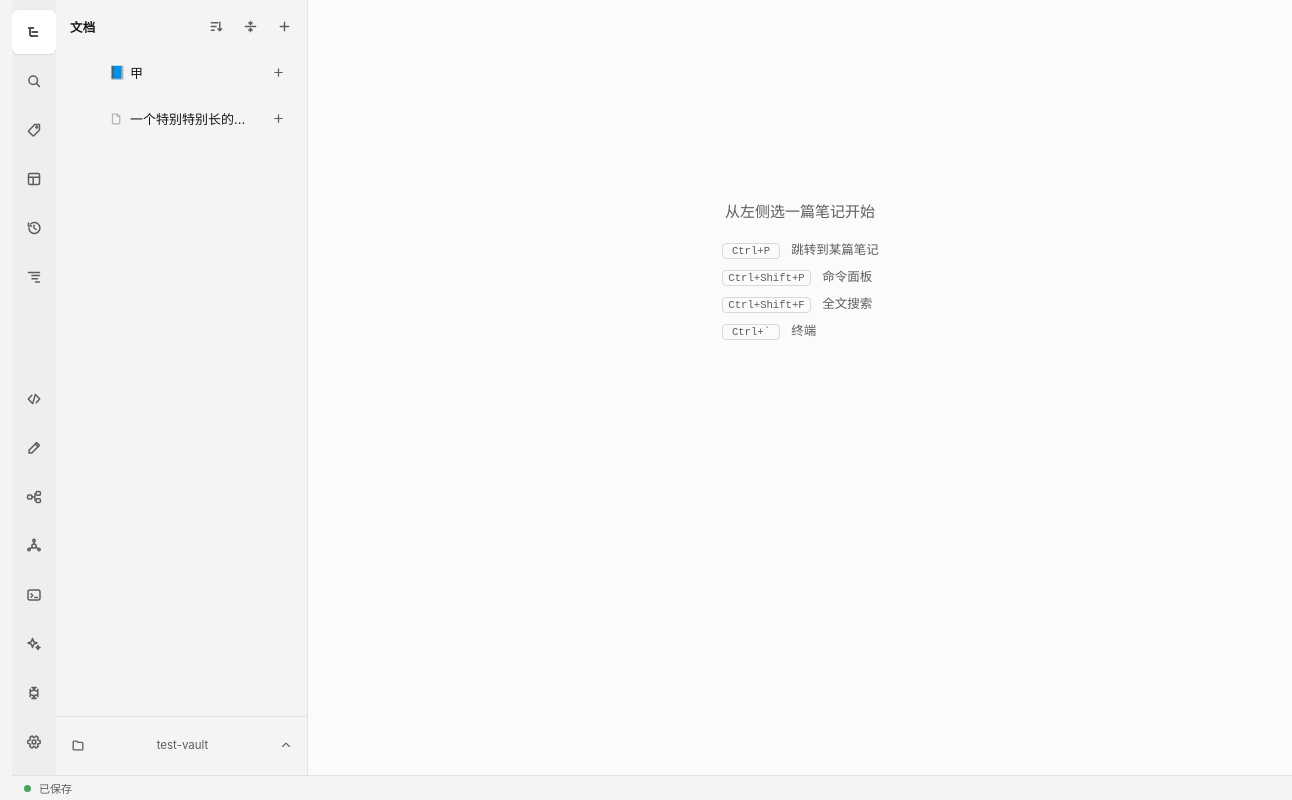
Test case: 文档图标 › 标签栏上也带图标 —— 标签等宽，名字先被截断
Step 1. Click the button with class "tree-label" showing "📘 甲" → (182, 72), box top-left (106, 50), bottom-right (259, 94)
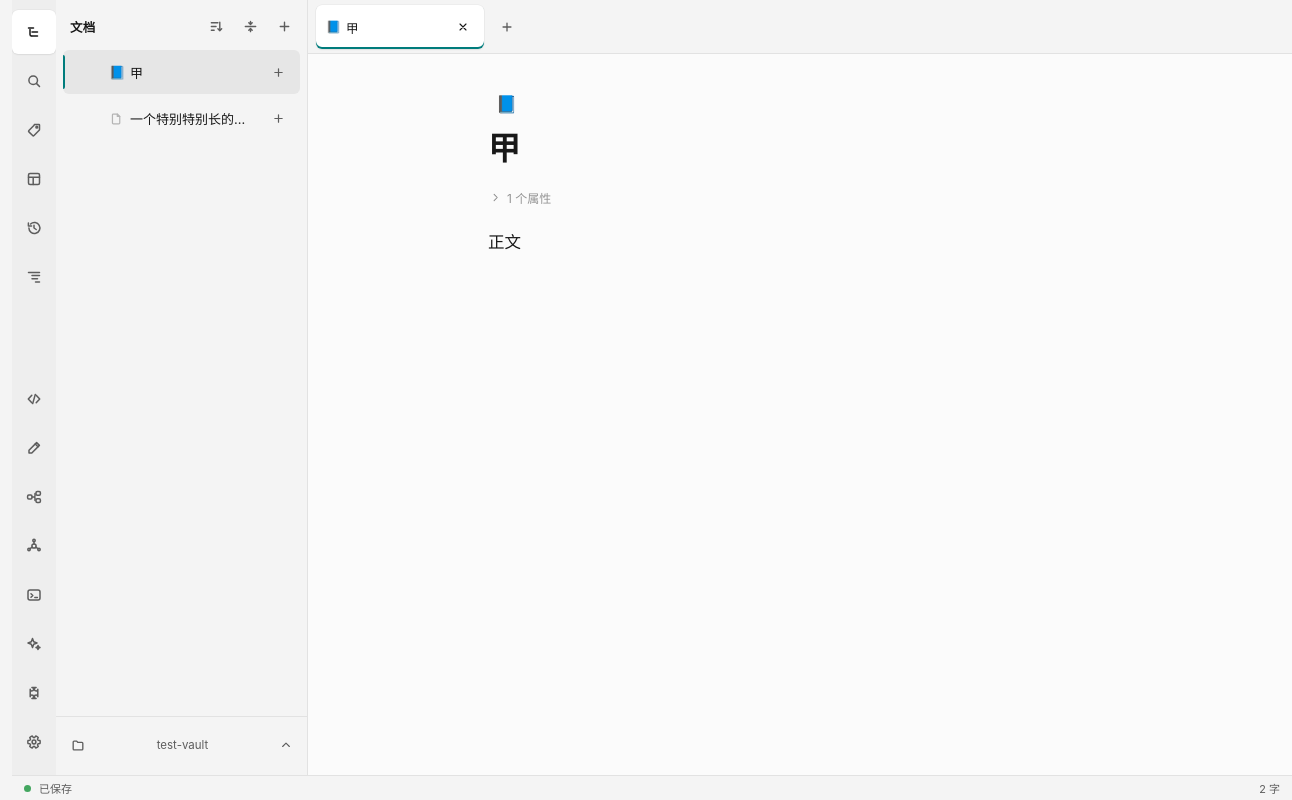
Expected: the icon with class "tab-icon" reads "📘", top-left (326, 20), bottom-right (341, 34)
